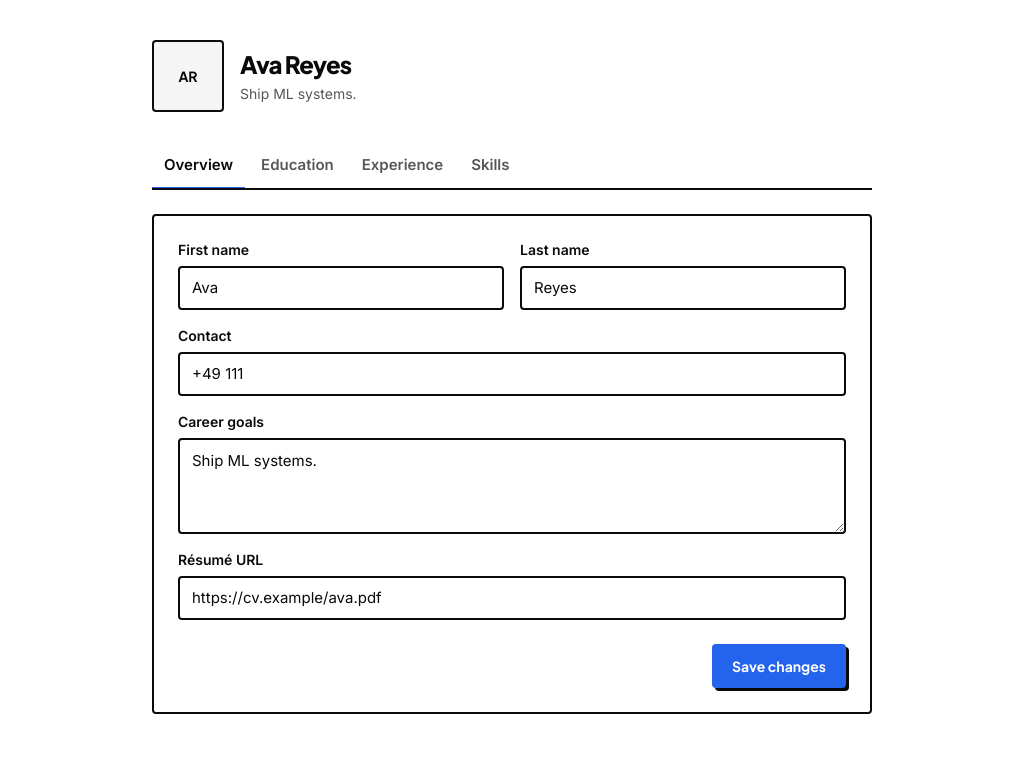
Test: SeekerProfilePage › saves the overview, PATCHing the seeker profile and refreshing the session user
Expected: the heading "Ava Reyes" is shown, [240,48,357,80]
What coordinates should you click on to do the following:
click the button "Save changes"
I would click on:
 (779, 666)
Its box is [712,644,846,688].
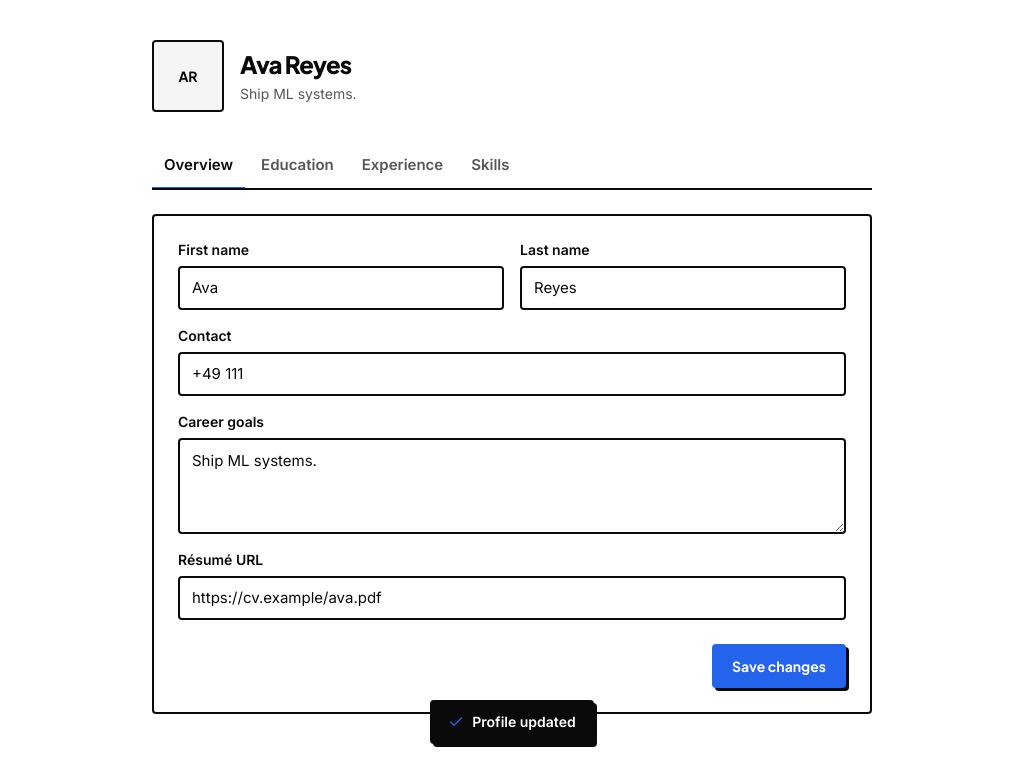
Now the text "Profile updated" is shown, box [430,700,594,744]
